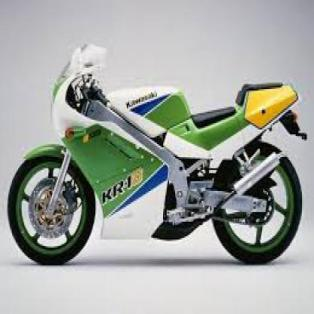Motocicleta: (4, 31, 310, 277)
